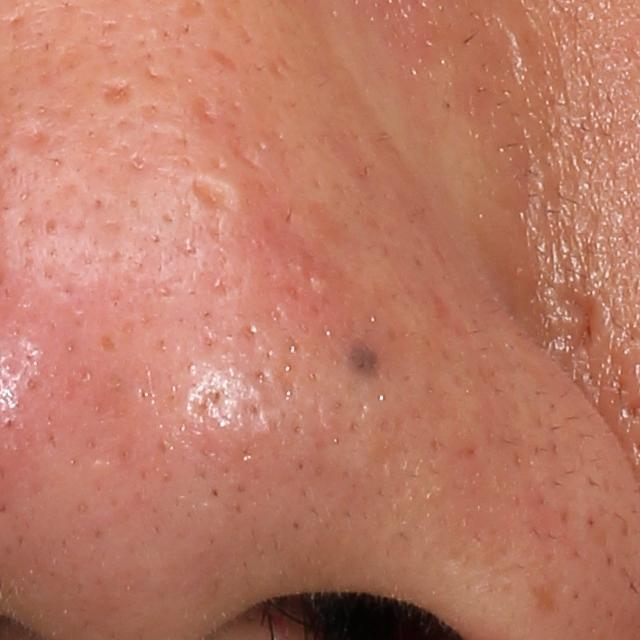atrophic_scar: (548, 275, 602, 348), (191, 182, 237, 216), (204, 44, 244, 77), (18, 126, 56, 152), (100, 83, 134, 111), (196, 95, 222, 126)
comedo: (42, 214, 60, 238)
